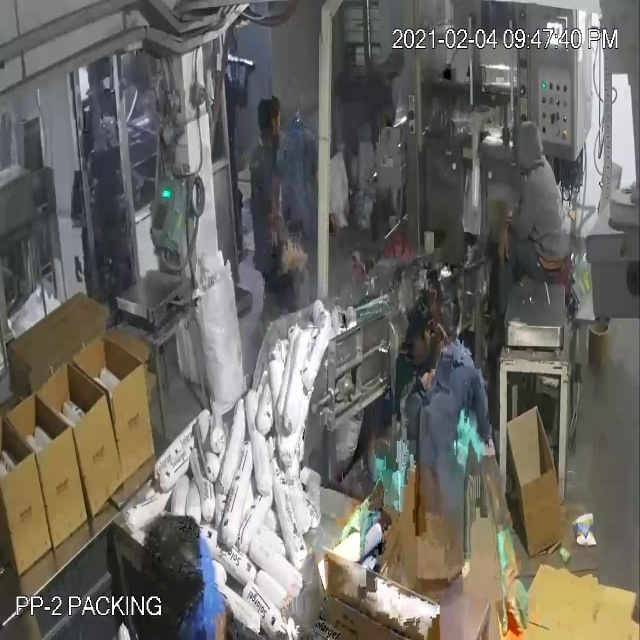Sin_guantes: (493, 213, 517, 270)
